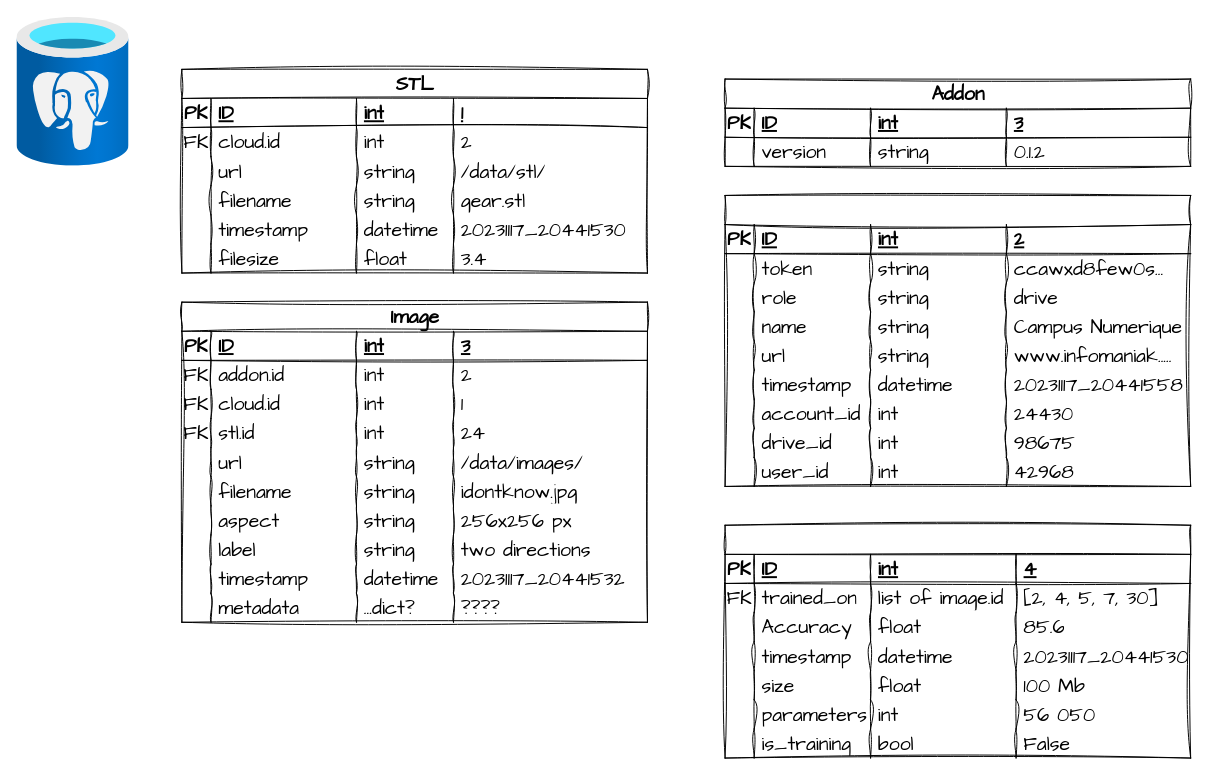
This 1208x775 diagram has some shape labels left out. The shapes that lost their labels are listed below. From the top down, each one's box as (x1, y1, x2, y2) in pixels, then its label:
(724, 194, 1191, 486): Cloud
(724, 524, 1191, 758): ML Model
